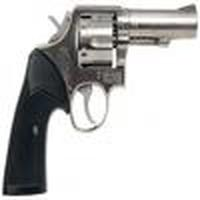gun: (6, 6, 199, 177)
